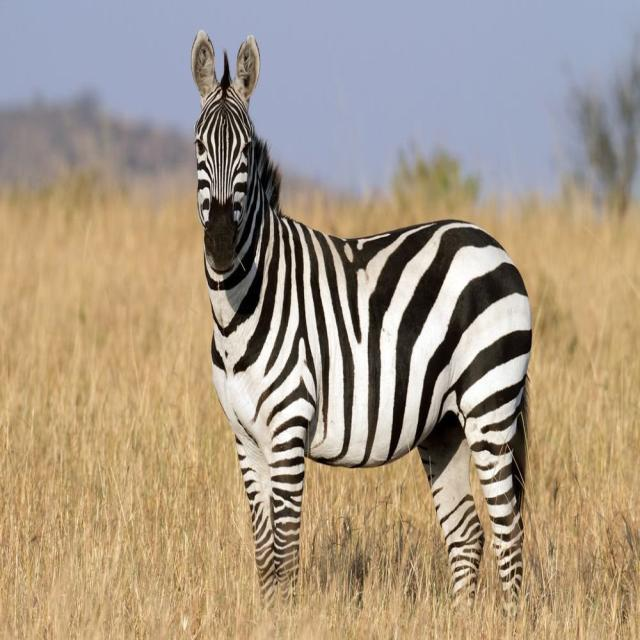Zebra: (183, 24, 541, 598)
